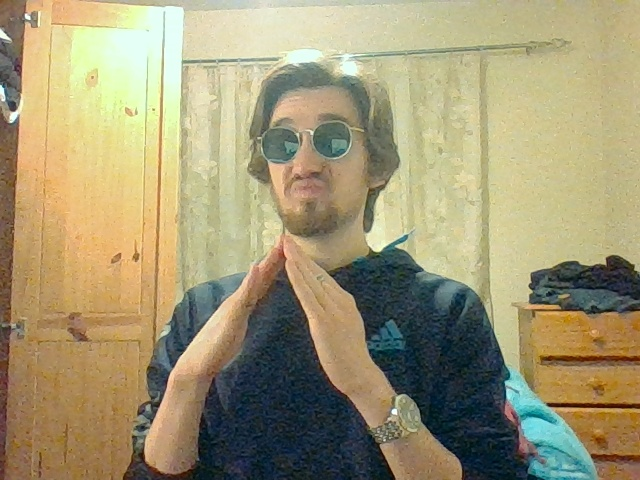home: (214, 236, 362, 337)
